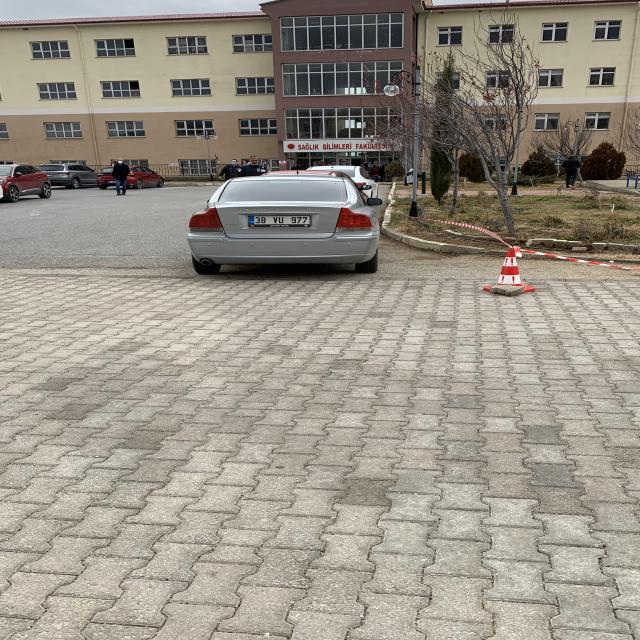license_plate: (248, 217, 312, 226)
